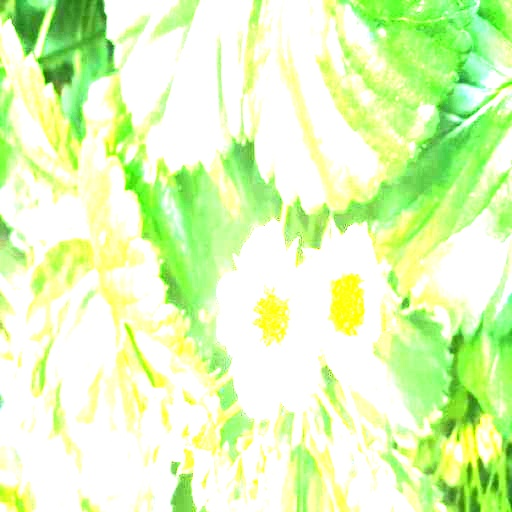Blossom Blight: (247, 273, 297, 353), (325, 270, 369, 342)
